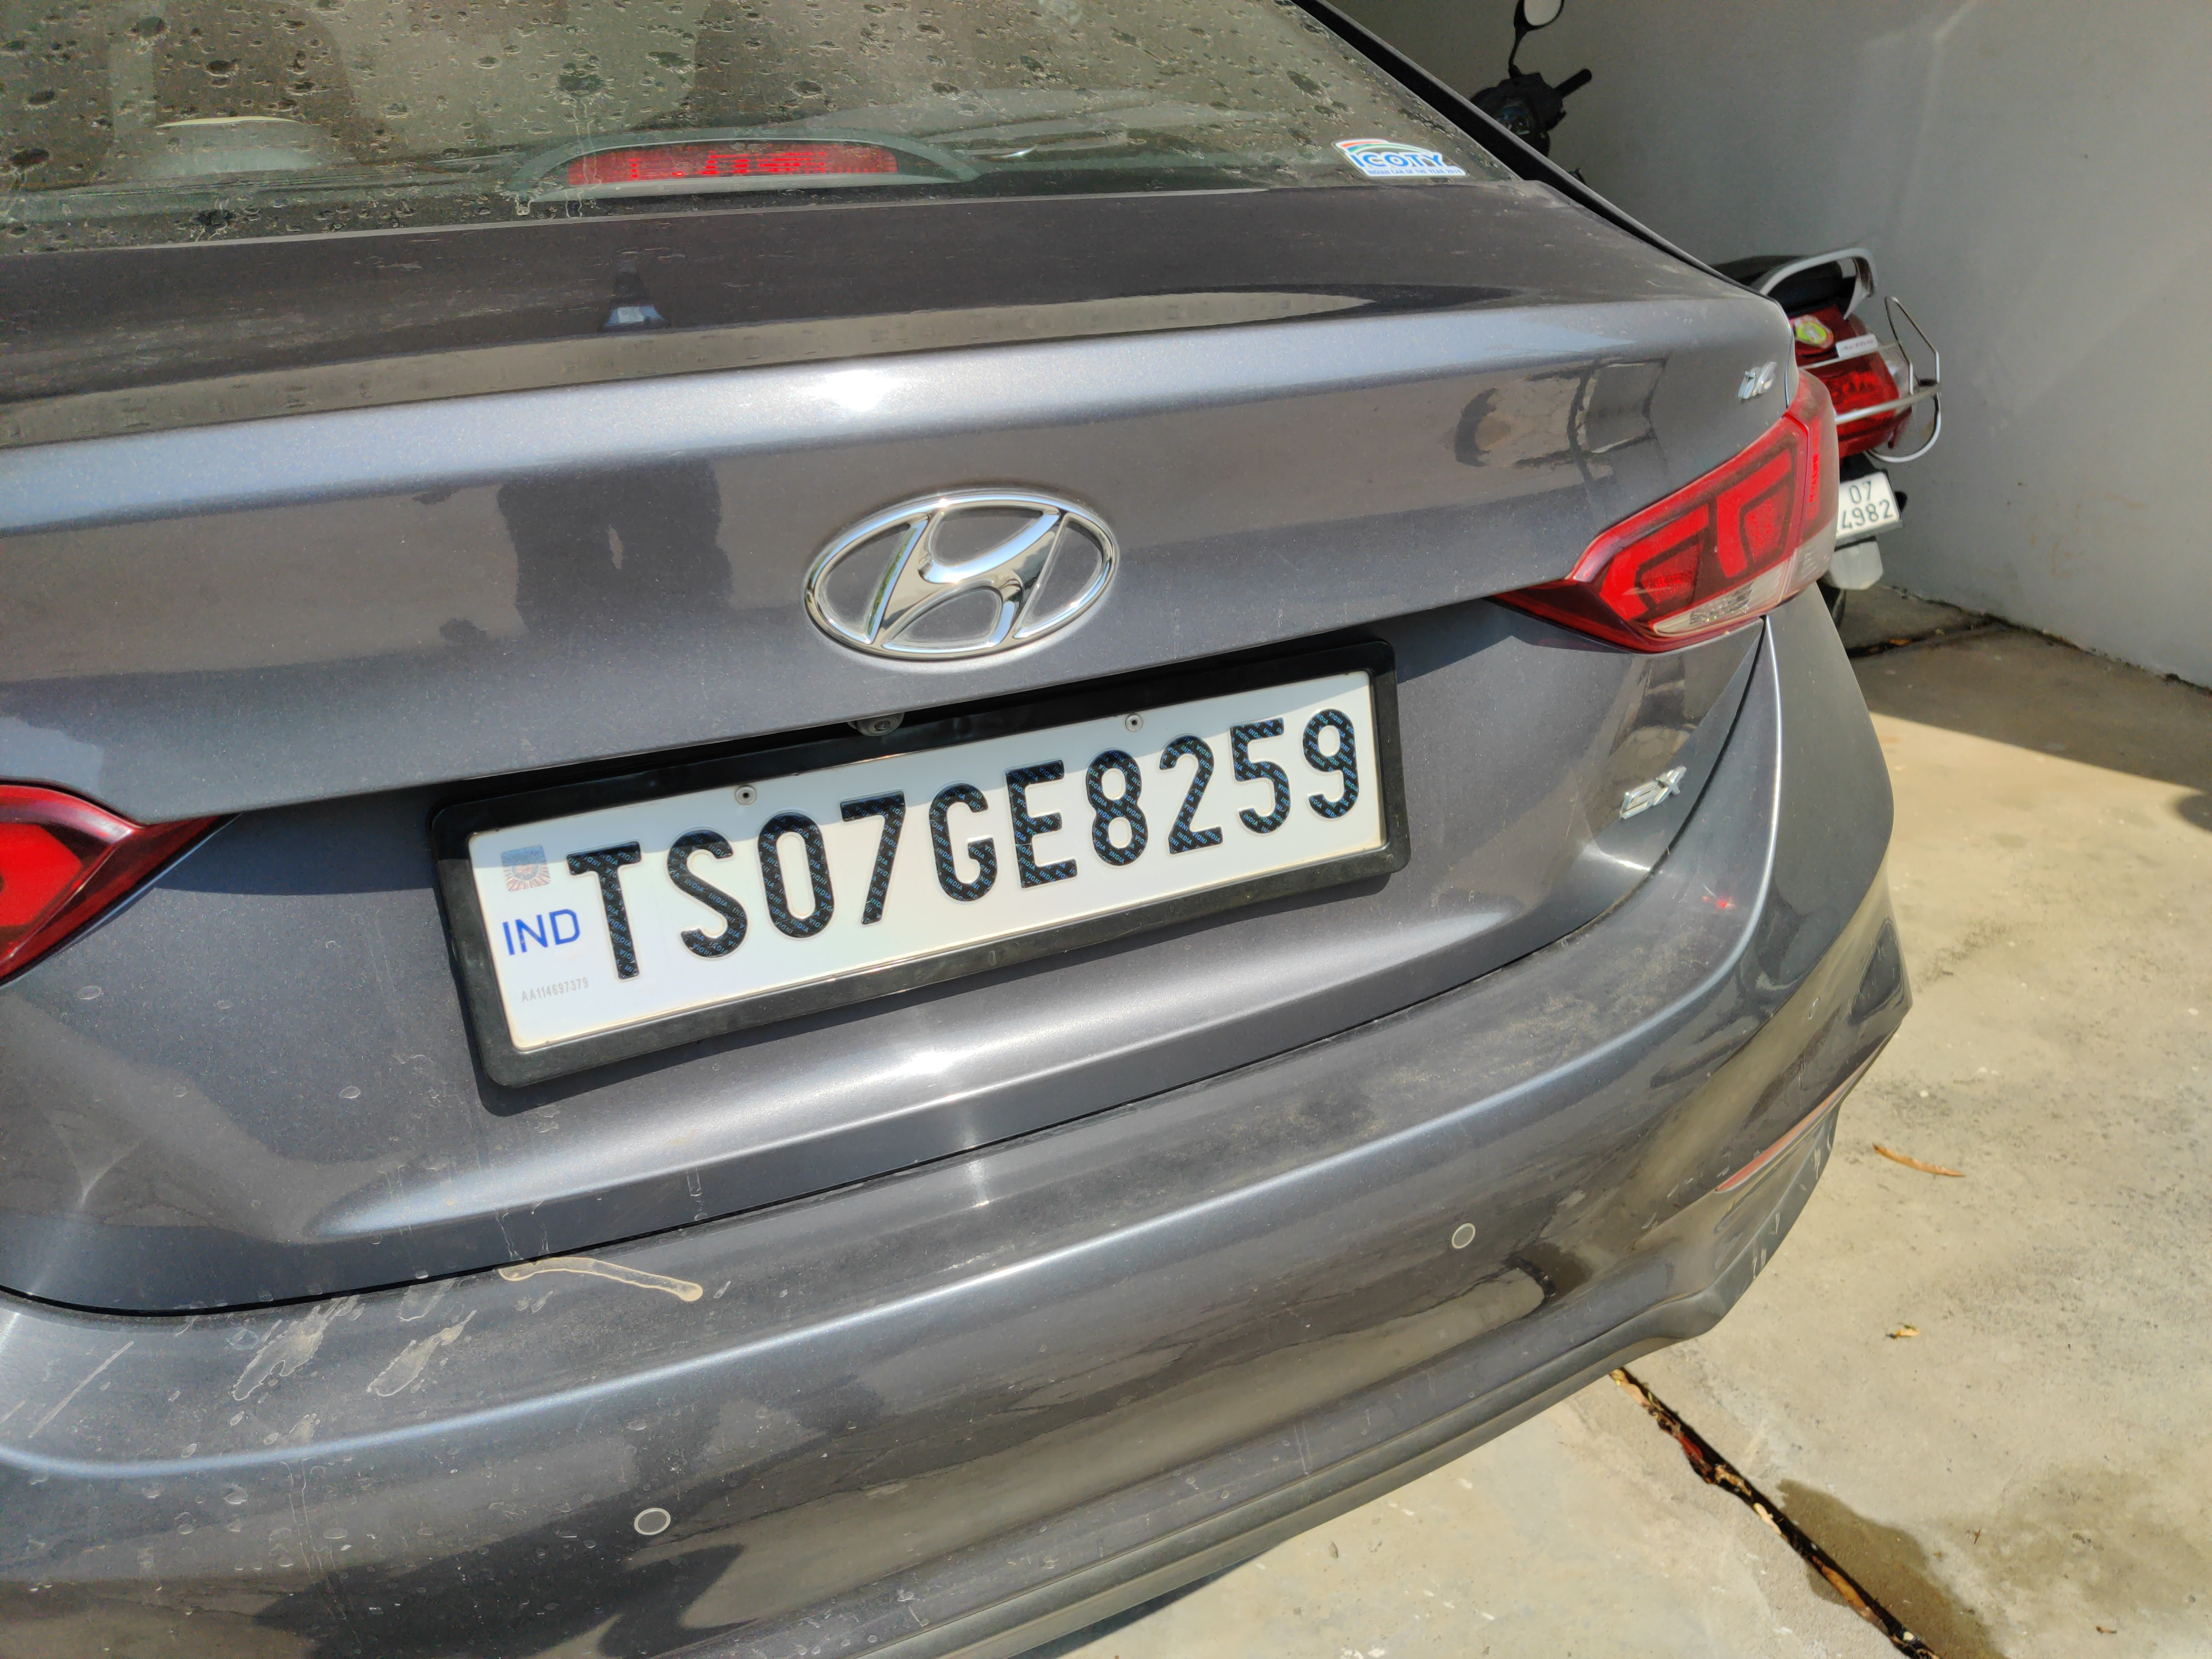plate: (364, 610, 1447, 1126)
